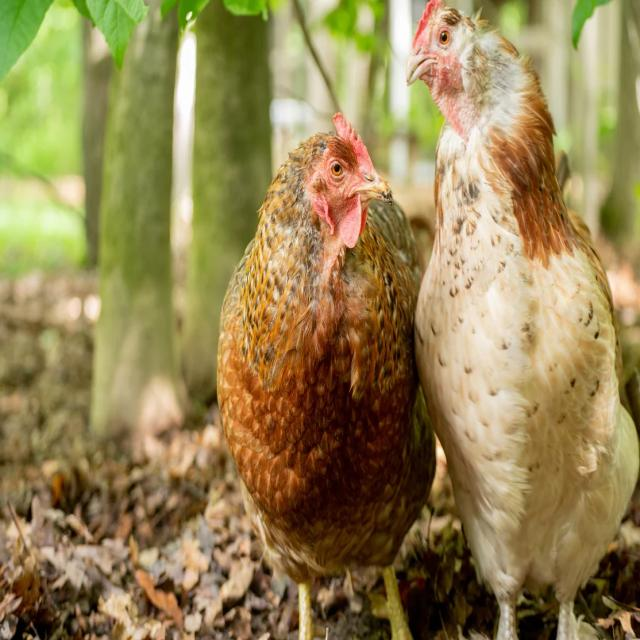allo preening: (213, 5, 633, 640)
